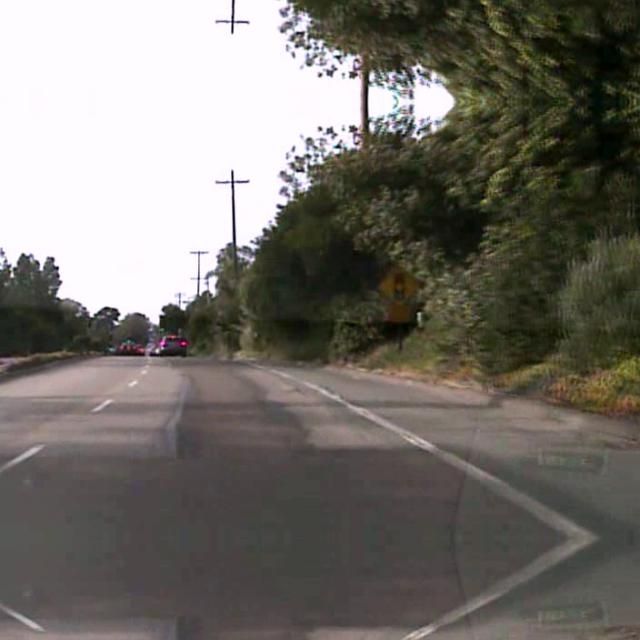signalAhead: (376, 262, 420, 304)
